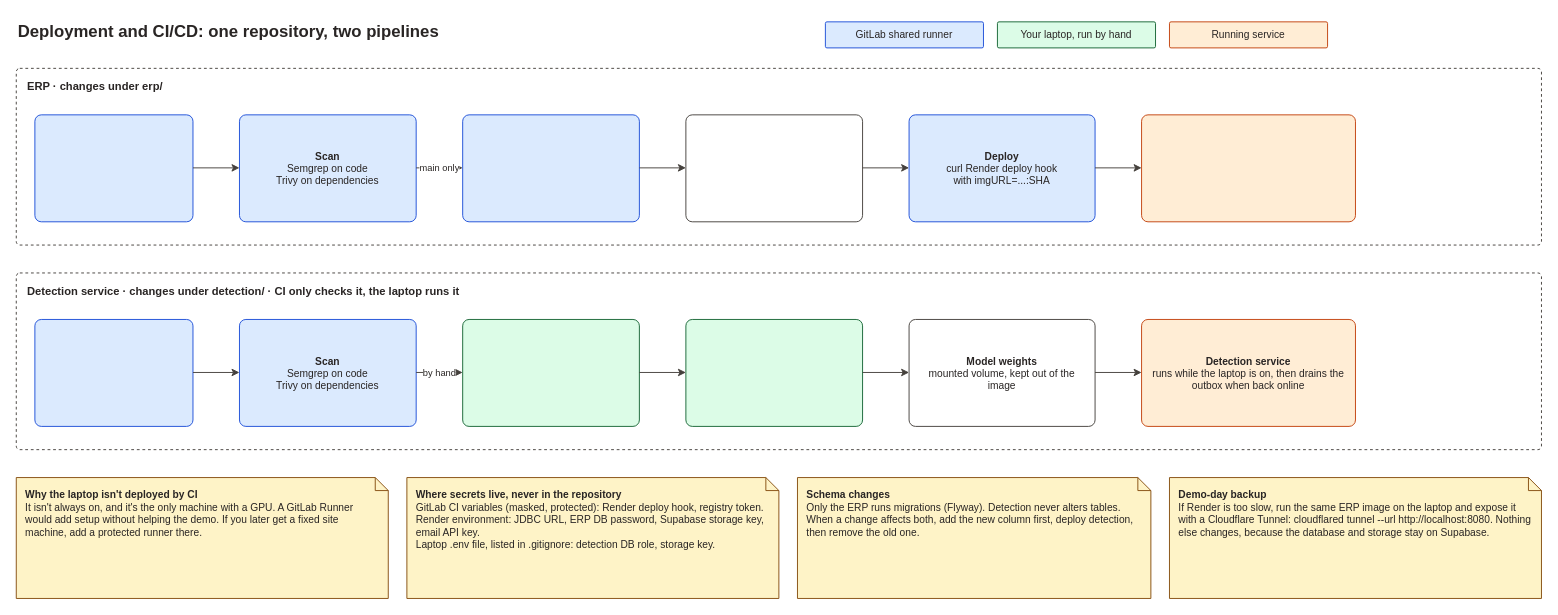
Image size: 1558x615. Some labels were removed from this diagram. Here are the shapes that lost their labels. From the top down, the box of each, then its label:
(34, 114, 193, 222): Test mvn verify
(462, 114, 639, 222): Build image multi-stage Dockerfile tag = commit SHA
(685, 114, 863, 222): GitLab Container Registry private image
(1141, 114, 1355, 222): Render pulls the image, Flyway migrates the schema, health check passes
(34, 319, 193, 426): Test pytest on rules and sync, no GPU needed
(462, 319, 639, 426): git pull, then build docker compose up --build uses no CI minutes
(685, 319, 863, 426): GPU in Docker Docker Desktop on WSL2 with the NVIDIA driver
